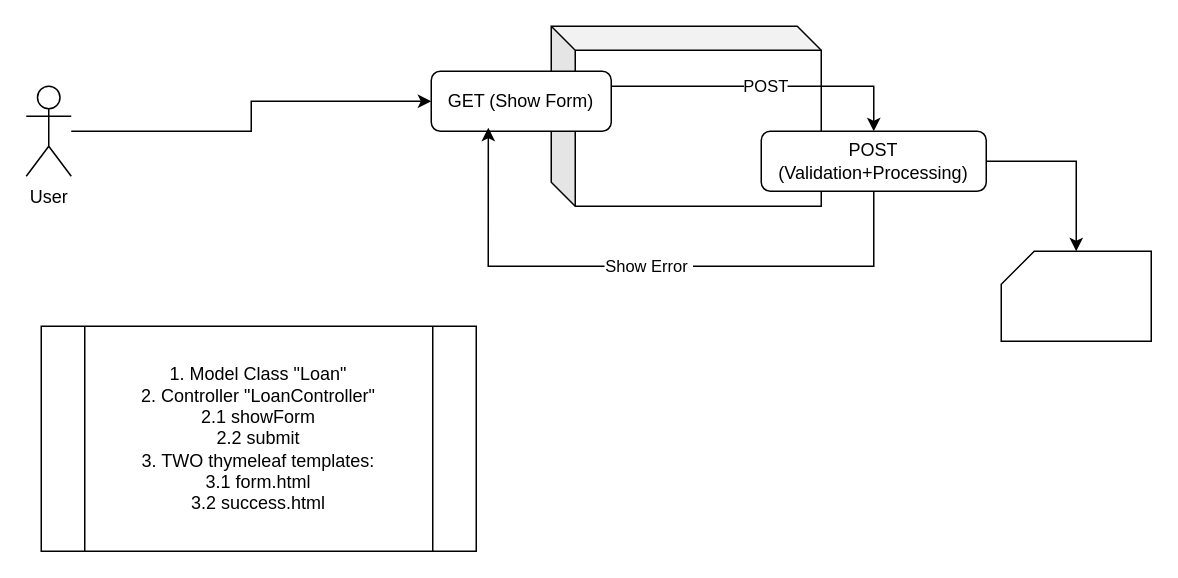
The diagram is 1178 pixels wide and 578 high, and some of its shapes have lost their labels. Each missing label, with the box of its shape:
Controller "/apply-loan": (550, 25, 821, 206)
success: (1000, 250, 1151, 341)
